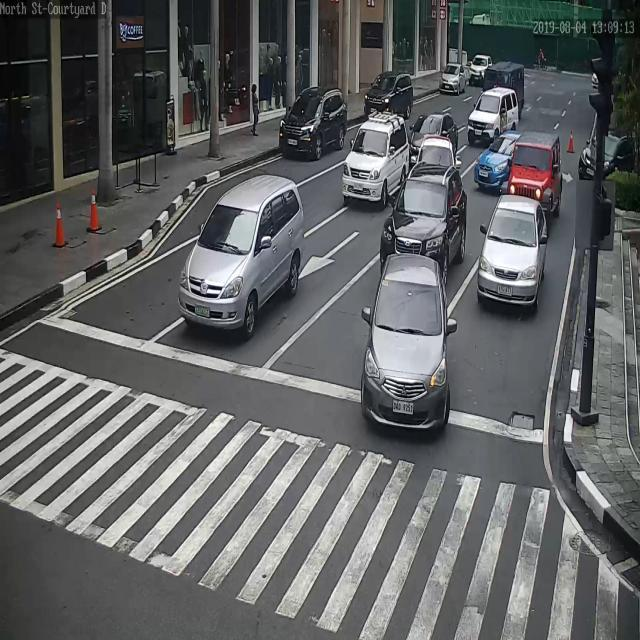bus: (482, 58, 524, 116)
car: (177, 173, 309, 334), (359, 250, 450, 432), (379, 160, 467, 286), (475, 196, 549, 307), (342, 110, 410, 204), (279, 84, 349, 159), (469, 86, 519, 146), (362, 71, 414, 127), (409, 112, 458, 166), (579, 132, 638, 176), (476, 132, 521, 188), (410, 134, 460, 165), (439, 63, 467, 95), (468, 55, 494, 89)
tricycle: (507, 130, 563, 217)
